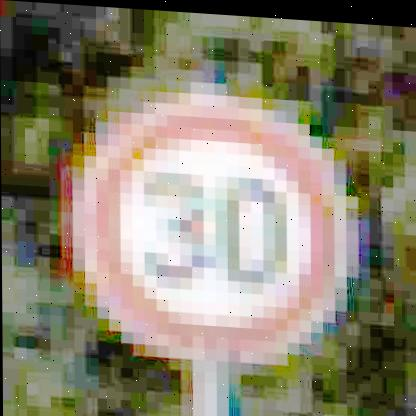Speed Limit -30-: (68, 76, 353, 366)
